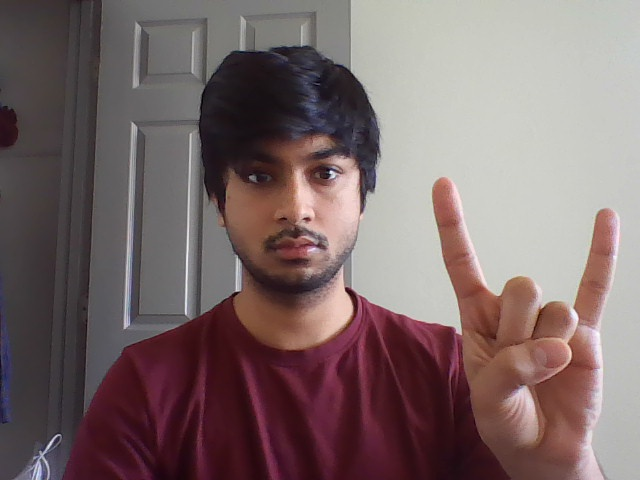help: (421, 166, 630, 351)
